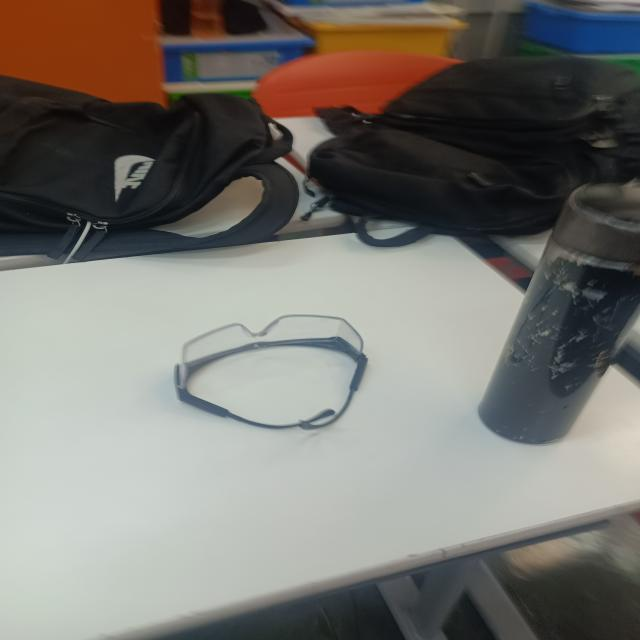oculos-epi: (174, 314, 368, 430)
